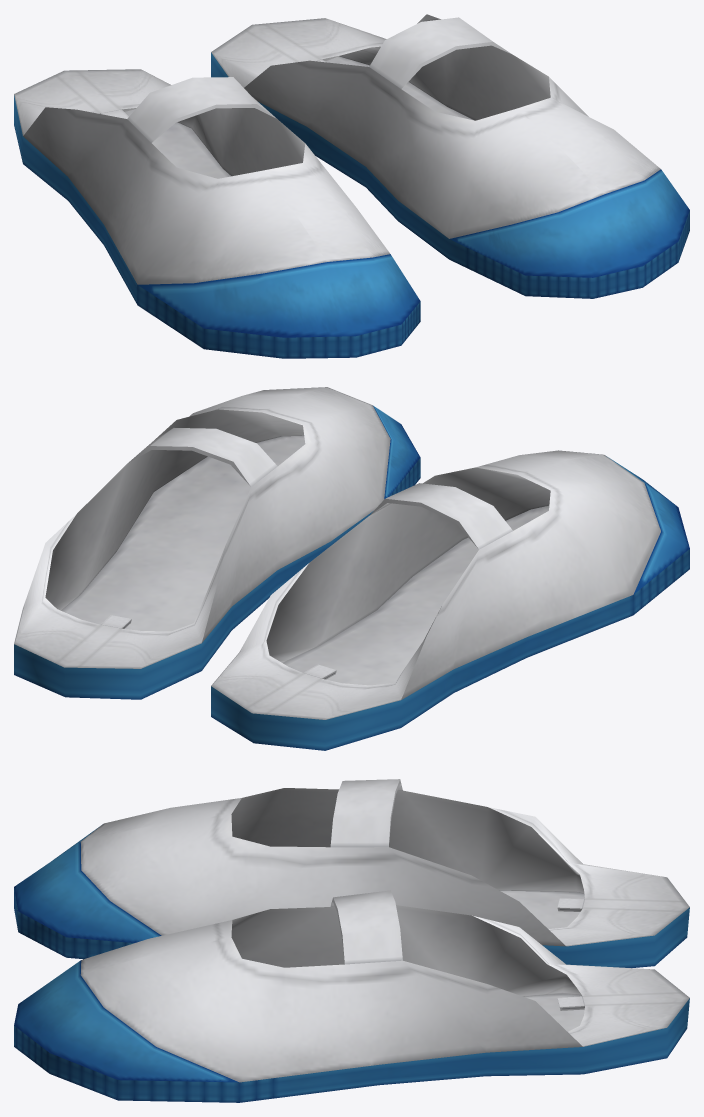
File: set_indoorshoes_01_b.fbx
The picture shows the model from 3 angles, top to bottom: view 1: azimuth 30°, elevation 25°; view 2: azimuth 150°, elevation 25°; view 3: azimuth 270°, elevation 25°; orthographic projection.
Visible parts, largest first — view 1: indoorshoes_01_b_L, indoorshoes_01_b_R; view 2: indoorshoes_01_b_R, indoorshoes_01_b_L; view 3: indoorshoes_01_b_L, indoorshoes_01_b_R.
Boxes of the visible parts, left/top/right/bottom form: indoorshoes_01_b_L: left=211, top=14, right=689, bottom=298; indoorshoes_01_b_R: left=14, top=69, right=420, bottom=358; indoorshoes_01_b_R: left=211, top=450, right=689, bottom=750; indoorshoes_01_b_L: left=14, top=387, right=420, bottom=699; indoorshoes_01_b_L: left=14, top=890, right=689, bottom=1102; indoorshoes_01_b_R: left=14, top=779, right=689, bottom=967.
Size of the model in its own units: 21.31 by 5.65 by 25.41.
